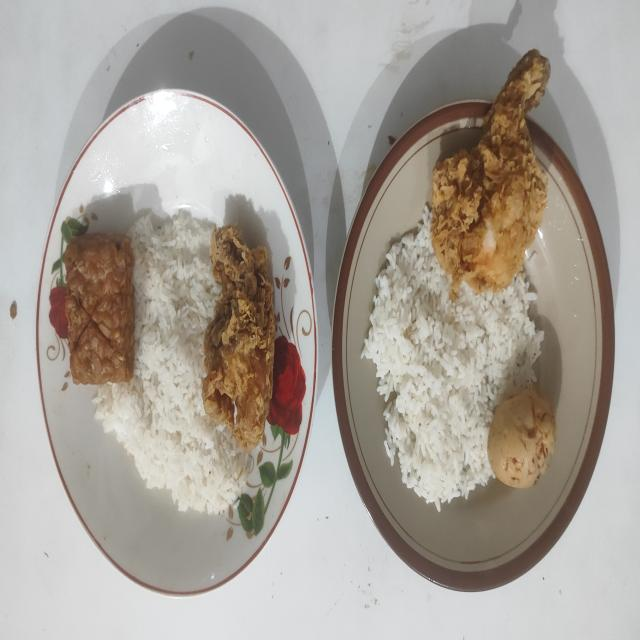nasi_putih: (361, 205, 544, 511), (93, 211, 246, 514)
tempe_goreng: (64, 233, 134, 384)
